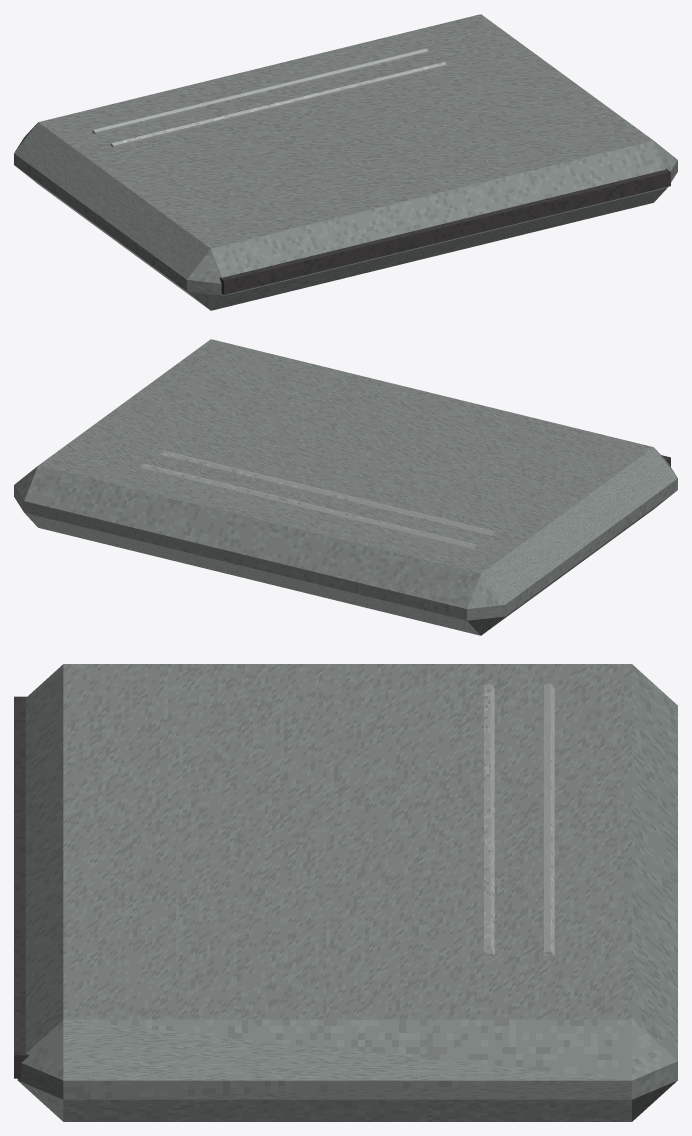
Rendered from wallet_duct_tape.glb.
The picture shows the model from 3 angles, top to bottom: view 1: azimuth 30°, elevation 25°; view 2: azimuth 150°, elevation 25°; view 3: azimuth 270°, elevation 25°; orthographic projection. The views are drawn at different scales.
Visible parts, largest first — view 1: block_card or folded wallet, block_wallet folded edge, block_topstitch 0 (×2); view 2: block_card or folded wallet, block_topstitch 0 (×2); view 3: block_card or folded wallet, block_topstitch 0 (×2), block_wallet folded edge.
Part boxes in pixels (left/top/right/bottom): block_card or folded wallet: left=14, top=14, right=677, bottom=310; block_wallet folded edge: left=219, top=168, right=670, bottom=294; block_topstitch 0 (×2): left=92, top=48, right=446, bottom=147; block_card or folded wallet: left=14, top=339, right=677, bottom=635; block_topstitch 0 (×2): left=141, top=450, right=495, bottom=548; block_card or folded wallet: left=17, top=664, right=677, bottom=1121; block_topstitch 0 (×2): left=484, top=683, right=554, bottom=955; block_wallet folded edge: left=14, top=696, right=28, bottom=1078.
Size of the model in its own units: 0.1351 by 0.0171 by 0.0961.
Materials: 1 (1 with a texture image).
